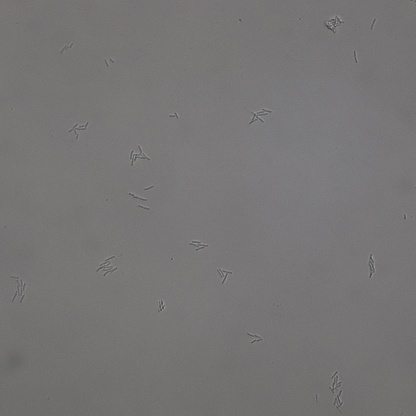R(colony): (128, 146, 150, 167), (96, 256, 117, 277), (11, 274, 25, 303), (68, 121, 88, 140), (250, 109, 272, 123), (329, 371, 342, 392), (333, 392, 346, 412), (216, 268, 232, 284), (190, 240, 209, 251), (368, 254, 377, 277), (246, 332, 263, 344), (60, 43, 73, 53), (104, 58, 114, 66)
